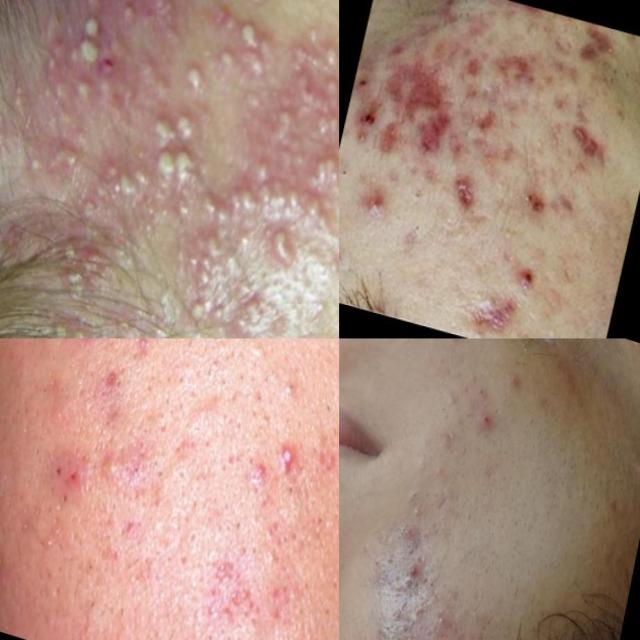acne_scars: (386, 40, 448, 121), (455, 278, 520, 338), (487, 42, 543, 99), (458, 92, 510, 152), (414, 106, 457, 166), (368, 104, 407, 169), (444, 161, 482, 224), (570, 120, 614, 172), (545, 184, 584, 229), (575, 21, 613, 66), (382, 589, 412, 629), (445, 620, 471, 640)
comedone: (270, 359, 319, 410), (394, 206, 438, 251), (246, 535, 287, 582), (608, 56, 640, 104), (398, 164, 434, 203), (236, 338, 272, 376), (509, 315, 558, 338), (339, 150, 359, 195), (400, 477, 425, 508), (468, 374, 492, 404), (327, 377, 339, 425)
papule: (274, 426, 311, 482), (89, 445, 129, 496), (501, 358, 523, 396), (474, 408, 500, 439)
pustule: (10, 54, 106, 176), (171, 223, 244, 328), (134, 95, 214, 188), (286, 54, 339, 190), (34, 236, 112, 316), (210, 9, 283, 93), (211, 278, 312, 338), (81, 156, 157, 230), (199, 177, 260, 237), (266, 179, 327, 229), (65, 2, 114, 58), (254, 214, 304, 260), (108, 0, 182, 30)
sebo-crystan-conglo: (394, 553, 429, 595)
